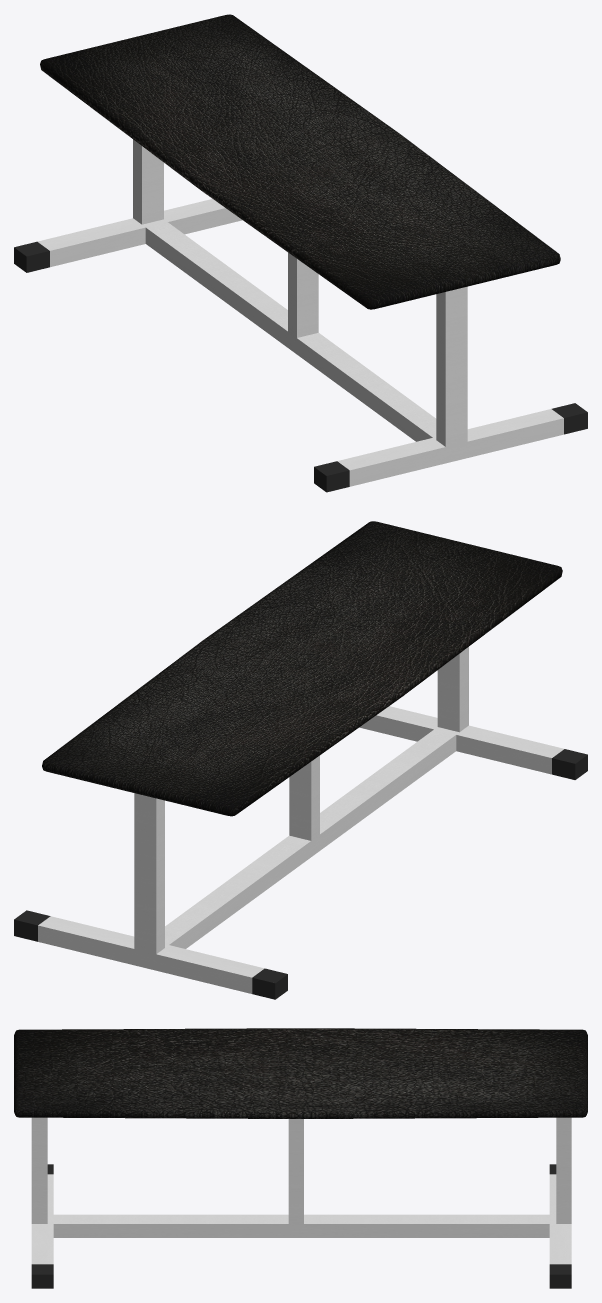
The model's file is Bench02.FBX.
3 views of the same model, one above another, from view 1: azimuth 30°, elevation 25°; view 2: azimuth 150°, elevation 25°; view 3: azimuth 270°, elevation 25° (orthographic). The views are drawn at different scales.
Visible parts, largest first — view 1: Simulator_Bench02; view 2: Simulator_Bench02; view 3: Simulator_Bench02.
Boxes of the visible parts, x1=… form: Simulator_Bench02: x1=14, y1=14, x2=587, y2=492; Simulator_Bench02: x1=14, y1=521, x2=587, y2=999; Simulator_Bench02: x1=14, y1=1028, x2=587, y2=1288.
Size of the model in its own units: 764 by 532 by 1682.
